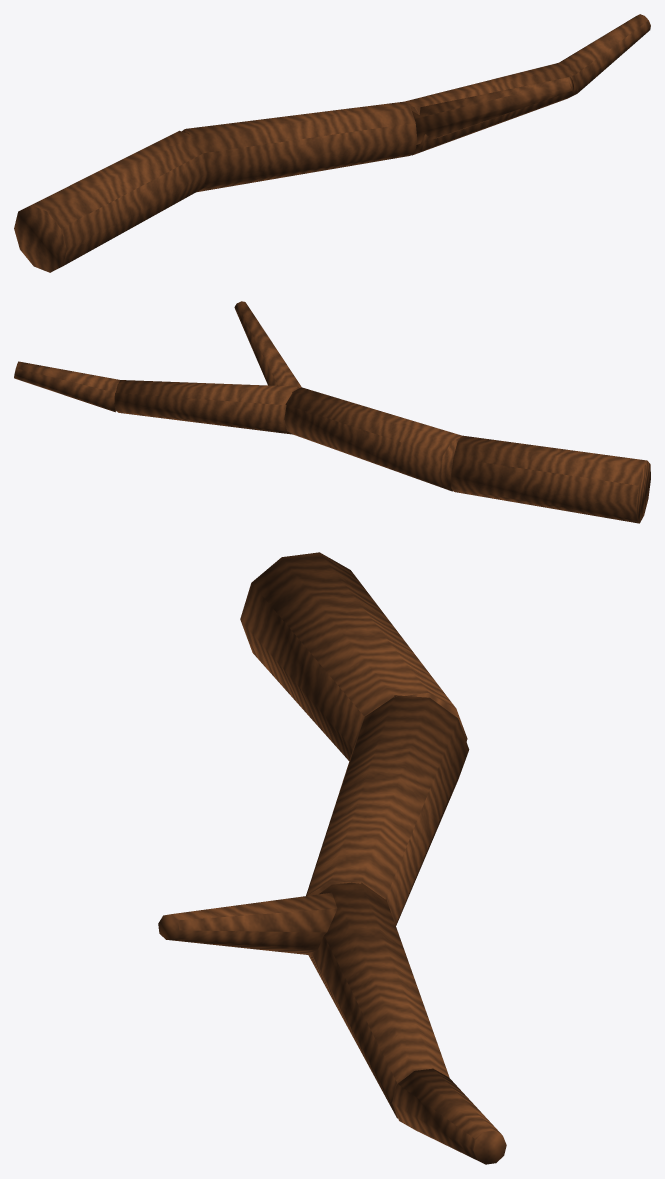
File: shore_driftwood.glb
3 renders of one model, top to bottom at view 1: azimuth 30°, elevation 25°; view 2: azimuth 150°, elevation 25°; view 3: azimuth 270°, elevation 25°, orthographic. The views are drawn at different scales.
Parts seen in each view (by area): view 1: ShoreDriftwood3D; view 2: ShoreDriftwood3D; view 3: ShoreDriftwood3D.
Part boxes in pixels (bbox=[...]): ShoreDriftwood3D: bbox=[14, 14, 650, 272]; ShoreDriftwood3D: bbox=[14, 301, 650, 523]; ShoreDriftwood3D: bbox=[158, 552, 506, 1164].
Bounding box in the file's own units: 1.23 × 0.1764 × 0.3147.
1 material, 1 textured.
